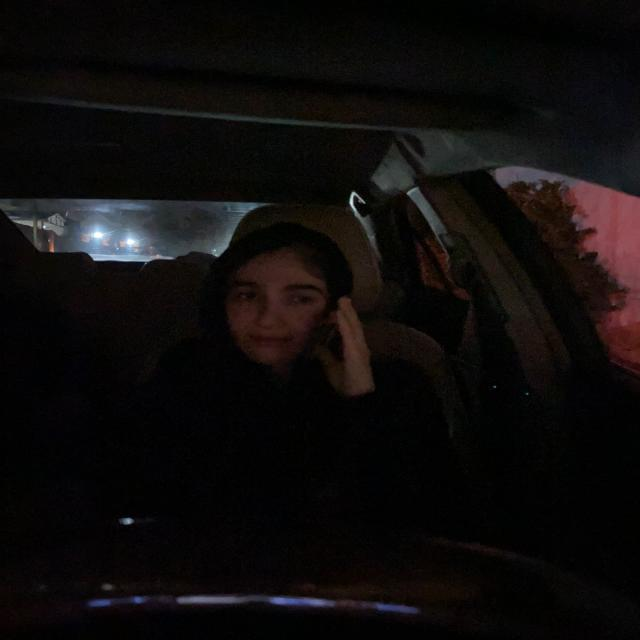person: (207, 225, 341, 374)
